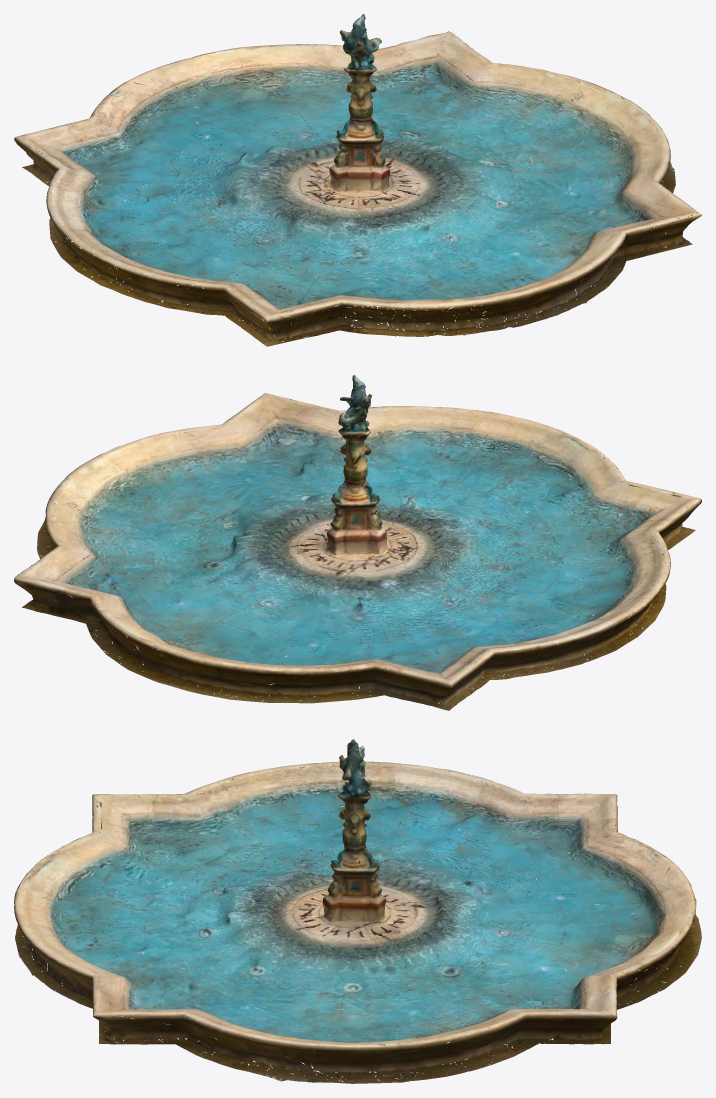
File: lobby-fountain.glb
The picture shows the model from 3 angles, top to bottom: view 1: azimuth 30°, elevation 25°; view 2: azimuth 150°, elevation 25°; view 3: azimuth 270°, elevation 25°; orthographic projection. The views are drawn at different scales.
Parts seen in each view (by area): view 1: Basin_0, Basin_1; view 2: Basin_0, Basin_1; view 3: Basin_0, Basin_1.
Part boxes in pixels (left/top/right/bottom): Basin_0: left=14, top=29, right=697, bottom=346; Basin_1: left=24, top=14, right=701, bottom=341; Basin_0: left=14, top=390, right=699, bottom=710; Basin_1: left=38, top=375, right=701, bottom=707; Basin_0: left=15, top=752, right=701, bottom=1083; Basin_1: left=14, top=739, right=698, bottom=1083.
Size of what is drawn, in the model's own units: 8.6 by 2.8 by 8.59.
1 material, 1 textured.
